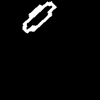chain: (23, 2, 55, 32)
